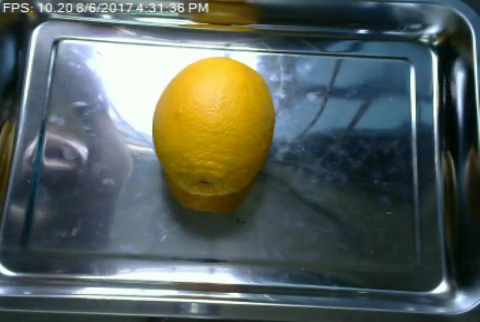Orange: (152, 58, 274, 197)
